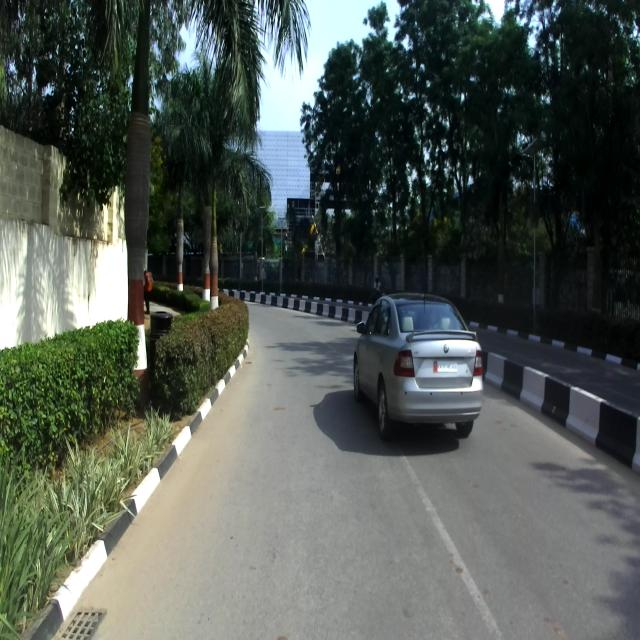car ahead at: (352, 281, 484, 439)
tree ahead at: (112, 12, 176, 392)
